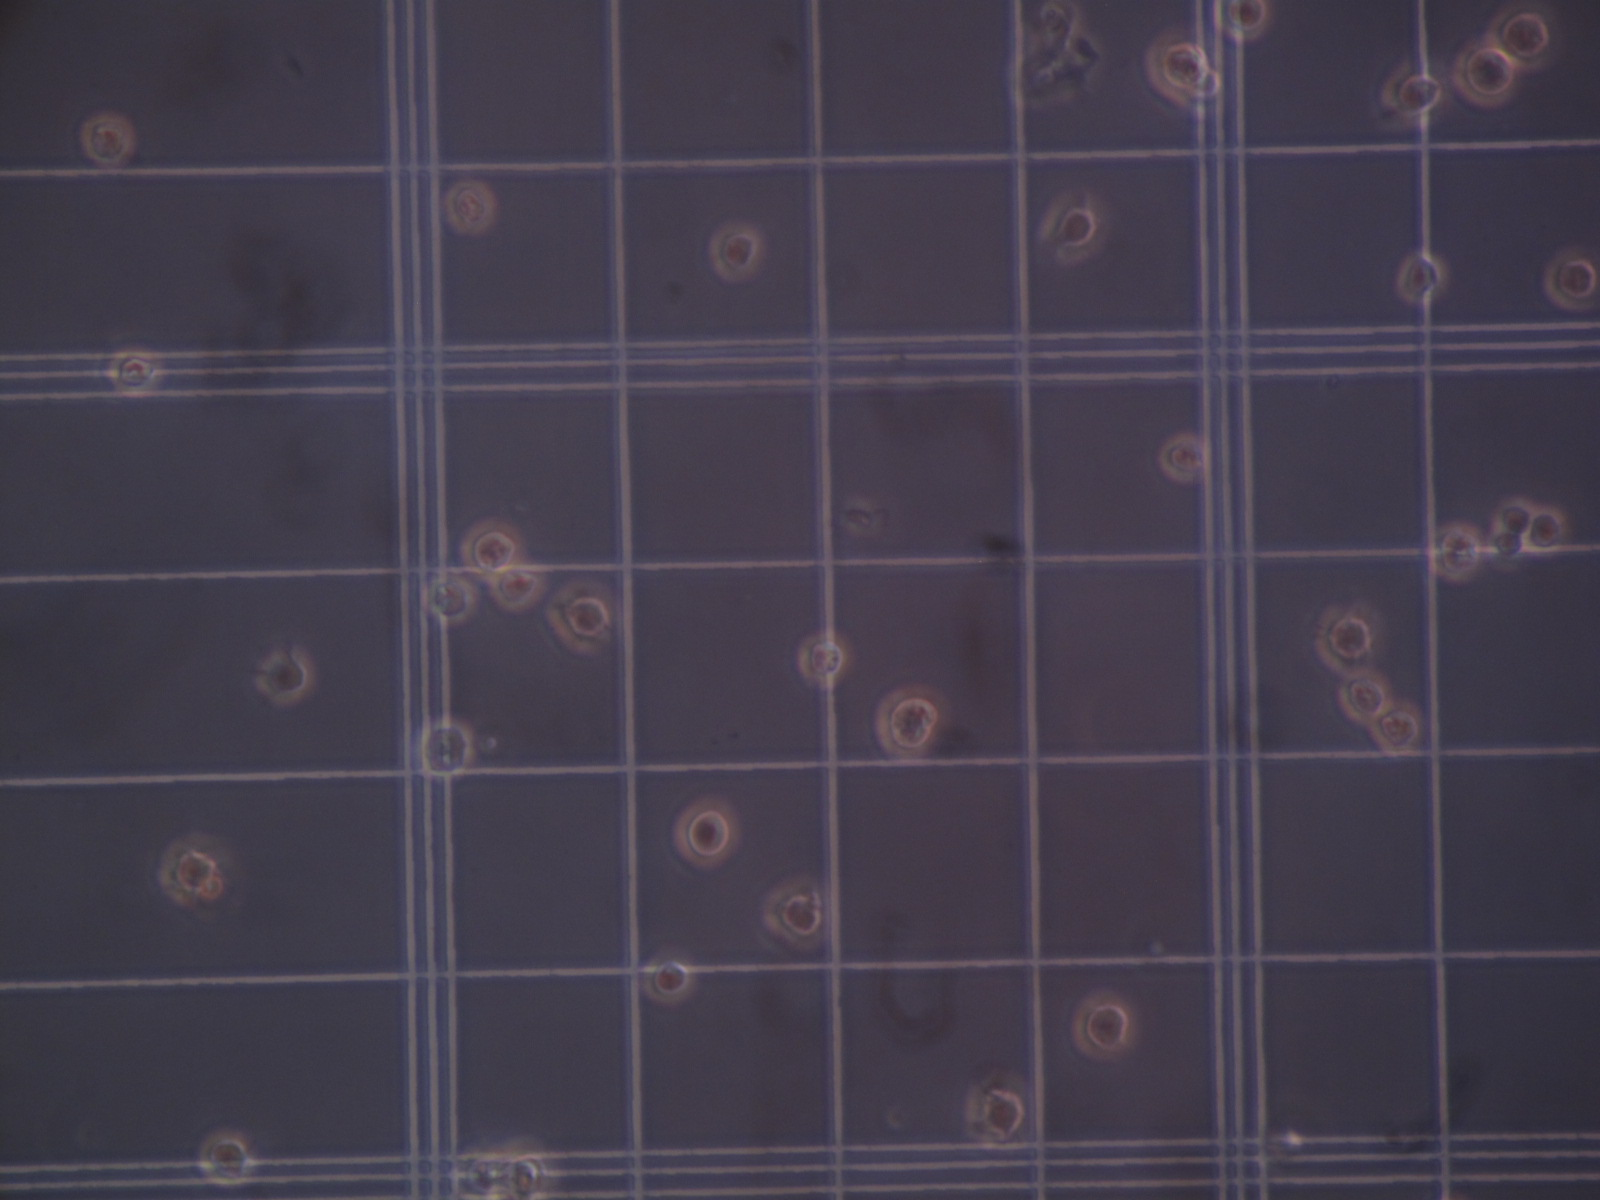hemo: (965, 1070, 1032, 1153), (876, 684, 947, 759), (547, 579, 616, 654), (1314, 603, 1385, 676), (762, 875, 829, 949), (1041, 192, 1107, 263), (673, 797, 740, 868), (1487, 4, 1556, 72), (1072, 991, 1136, 1061), (1454, 42, 1519, 108), (1144, 28, 1206, 98), (1381, 63, 1448, 126), (157, 838, 219, 905), (1543, 247, 1600, 313), (460, 519, 522, 579), (501, 1137, 558, 1200), (707, 222, 763, 284), (198, 1129, 254, 1187), (254, 650, 314, 705), (418, 718, 472, 778), (450, 1143, 505, 1200), (1432, 522, 1482, 584), (643, 949, 695, 1005), (797, 632, 850, 686), (1371, 701, 1422, 756), (81, 113, 136, 165), (445, 179, 496, 234), (106, 347, 161, 397), (1338, 671, 1390, 724), (426, 574, 475, 625), (1158, 434, 1209, 483), (1396, 253, 1444, 304), (490, 568, 544, 613), (1212, 1, 1271, 42), (1179, 71, 1225, 116), (1527, 507, 1567, 556), (1494, 497, 1534, 536), (1487, 529, 1526, 560)
